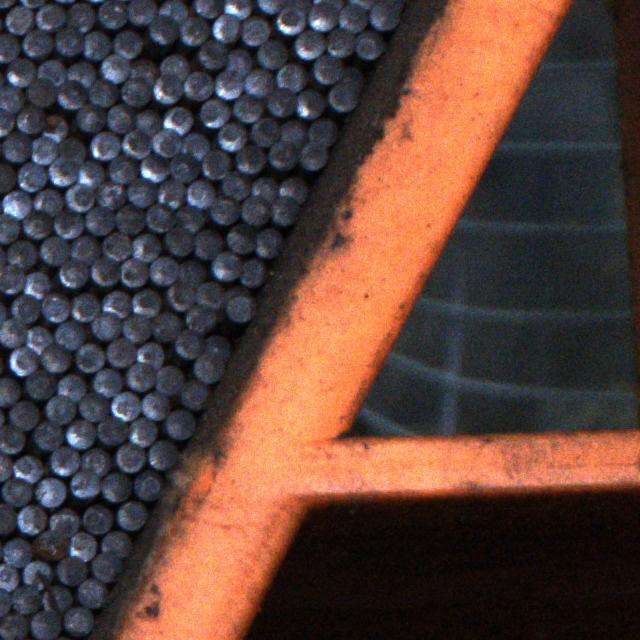tool: (333, 45, 380, 89), (90, 552, 124, 583), (127, 415, 159, 447), (255, 227, 287, 259), (162, 103, 194, 135), (146, 14, 180, 44), (292, 29, 326, 59), (132, 469, 164, 500), (80, 446, 112, 477), (64, 181, 96, 212), (267, 140, 299, 171), (1, 131, 32, 163), (337, 2, 369, 33), (82, 502, 115, 532), (57, 258, 90, 288), (295, 85, 325, 118), (34, 529, 68, 558), (198, 38, 227, 72), (29, 609, 60, 640), (116, 499, 148, 529), (166, 408, 196, 440), (8, 400, 40, 430), (44, 393, 76, 423), (78, 390, 110, 420), (8, 344, 38, 376), (192, 352, 224, 382), (54, 320, 86, 350), (101, 288, 131, 320), (192, 227, 222, 259), (299, 139, 329, 171), (13, 103, 45, 133), (328, 81, 360, 111), (57, 78, 87, 110), (99, 52, 129, 84), (81, 29, 113, 59), (65, 1, 97, 31), (185, 179, 218, 208), (76, 578, 107, 608), (2, 536, 32, 567), (114, 442, 145, 472), (32, 420, 63, 450), (64, 418, 94, 449), (23, 369, 54, 399), (125, 362, 156, 392), (10, 292, 41, 322), (32, 186, 62, 217), (201, 148, 231, 179), (235, 143, 266, 173), (121, 128, 152, 158), (26, 77, 57, 107), (88, 76, 118, 107), (312, 54, 342, 85), (241, 14, 271, 45), (258, 39, 288, 70), (307, 1, 338, 31), (368, 1, 399, 31), (56, 372, 88, 401), (69, 234, 101, 263), (183, 304, 216, 332), (224, 294, 257, 322), (62, 605, 92, 635), (10, 584, 40, 614), (16, 504, 46, 534), (112, 391, 142, 421), (94, 367, 124, 397), (75, 342, 105, 372), (174, 327, 204, 357), (166, 280, 196, 310), (30, 135, 60, 165), (310, 115, 340, 145), (1, 477, 32, 506), (49, 446, 80, 475), (151, 311, 180, 342), (54, 208, 83, 239), (239, 197, 270, 226), (182, 131, 213, 160), (55, 556, 87, 584), (10, 454, 42, 482), (147, 440, 179, 468), (122, 312, 150, 344), (114, 204, 146, 232), (108, 155, 140, 183), (158, 53, 190, 81), (20, 29, 52, 57), (40, 585, 73, 612), (131, 288, 164, 315), (22, 559, 52, 588), (67, 532, 97, 561), (49, 506, 79, 535), (35, 477, 65, 506), (69, 468, 99, 497), (102, 472, 131, 502), (154, 364, 183, 394), (71, 292, 100, 322), (6, 240, 36, 269), (39, 235, 69, 264), (101, 231, 131, 260), (84, 204, 114, 233), (156, 179, 185, 209), (140, 152, 169, 182), (218, 121, 247, 151), (74, 103, 104, 132), (121, 76, 151, 105), (153, 73, 182, 103), (214, 68, 243, 98), (225, 46, 254, 76), (211, 13, 241, 42), (40, 343, 71, 371), (21, 210, 52, 238), (16, 162, 47, 190), (275, 63, 306, 91), (35, 2, 66, 30), (356, 27, 384, 58), (107, 101, 134, 133), (112, 29, 144, 56), (149, 256, 178, 285), (211, 251, 240, 280), (240, 258, 269, 287), (131, 232, 160, 261), (47, 156, 76, 185), (250, 117, 279, 146), (200, 99, 229, 128), (267, 86, 296, 115), (326, 27, 355, 56), (97, 416, 125, 446), (142, 389, 170, 419), (106, 336, 134, 366), (178, 259, 208, 287), (210, 196, 238, 226), (279, 175, 309, 203), (170, 152, 200, 180), (89, 130, 119, 158), (152, 128, 180, 158), (232, 94, 262, 122), (36, 58, 66, 86), (101, 530, 132, 557), (181, 381, 212, 408), (67, 59, 98, 86), (204, 334, 232, 363), (91, 311, 120, 339), (22, 269, 51, 297), (164, 227, 192, 256), (1, 188, 30, 216), (180, 16, 209, 44), (120, 257, 147, 287), (219, 171, 249, 198), (182, 71, 212, 98), (55, 25, 82, 55), (276, 7, 306, 34), (0, 423, 26, 454), (42, 292, 68, 323), (43, 111, 68, 143), (135, 340, 163, 368), (91, 256, 119, 284), (227, 223, 255, 251), (147, 202, 175, 230), (272, 196, 300, 224), (126, 178, 154, 206), (280, 118, 308, 146), (7, 58, 35, 86), (6, 6, 34, 34), (176, 205, 205, 232), (99, 0, 128, 27), (0, 317, 25, 348), (0, 612, 27, 640), (78, 158, 105, 186), (96, 182, 125, 208), (0, 264, 24, 294), (198, 280, 224, 307), (250, 176, 277, 202), (59, 136, 86, 162), (245, 68, 272, 94), (158, 0, 192, 20), (26, 325, 52, 351), (134, 108, 160, 134), (130, 56, 156, 82), (0, 376, 21, 408), (128, 0, 156, 24), (0, 84, 23, 112), (225, 282, 252, 303), (0, 213, 18, 244), (223, 0, 254, 18), (0, 562, 19, 591), (0, 32, 18, 62), (193, 0, 223, 18), (0, 162, 16, 194), (0, 504, 16, 535), (0, 106, 13, 137), (314, 0, 346, 12), (285, 0, 312, 13), (258, 0, 284, 13), (0, 452, 11, 481), (378, 0, 407, 11)
